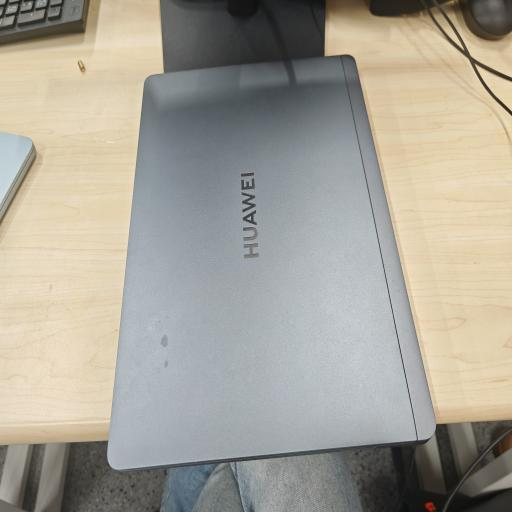laptop: (108, 56, 435, 470)
mouse: (459, 0, 512, 40)
